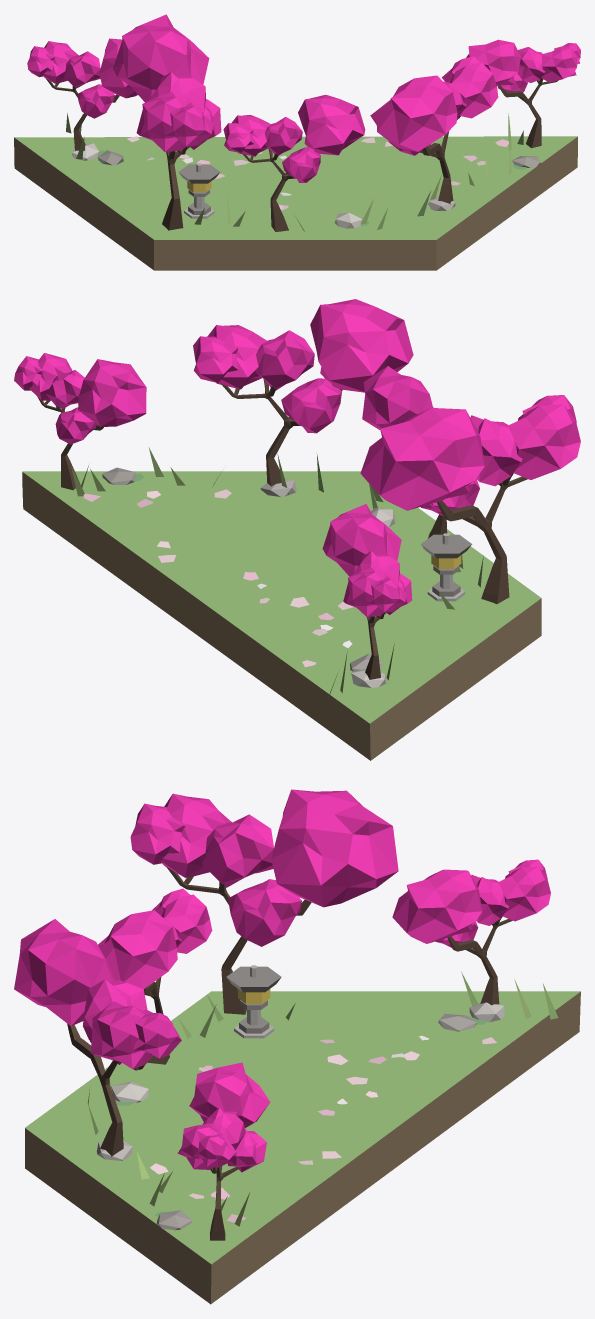
File: sakura tree forest split tile.glb
3 renders of one model, top to bottom at view 1: azimuth 30°, elevation 25°; view 2: azimuth 150°, elevation 25°; view 3: azimuth 270°, elevation 25°, orthographic. The views are drawn at different scales.
Parts seen in each view (by area): view 1: HexBase, Icosphere.010, Icosphere.020, Icosphere.031, Icosphere.022, Icosphere.012, Icosphere.015, Icosphere.011, Icosphere.013, Icosphere.001, Icosphere.017, Icosphere.034 (+16 smaller); view 2: HexBase, Icosphere.010, Icosphere.020, Icosphere.012, Icosphere.015, Icosphere.001, Icosphere.031, Cube.002, Icosphere.023, Icosphere.024, Icosphere.013, Icosphere.022 (+13 smaller); view 3: HexBase, Icosphere.010, Icosphere.020, Icosphere.001, Icosphere.031, Icosphere.013, Icosphere.014, Icosphere.015, Icosphere.012, Icosphere.022, Icosphere.011, Icosphere.003 (+13 smaller).
Part boxes in pixels (<box>): HexBase: <box>14,136,577,270</box>; Icosphere.010: <box>113,14,209,102</box>; Icosphere.020: <box>370,75,457,151</box>; Icosphere.031: <box>298,94,365,155</box>; Icosphere.022: <box>448,62,498,118</box>; Icosphere.012: <box>136,92,187,151</box>; Icosphere.015: <box>466,39,520,85</box>; Icosphere.011: <box>163,103,213,146</box>; Icosphere.013: <box>148,72,205,112</box>; Icosphere.001: <box>99,38,137,98</box>; Icosphere.017: <box>541,47,577,82</box>; Icosphere.034: <box>264,117,302,155</box>; HexBase: <box>22,471,541,760</box>; Icosphere.010: <box>360,408,484,510</box>; Icosphere.020: <box>310,299,413,392</box>; Icosphere.012: <box>506,404,580,479</box>; Icosphere.015: <box>78,359,146,426</box>; Icosphere.001: <box>322,504,401,576</box>; Icosphere.031: <box>362,366,433,429</box>; Cube.002: <box>436,473,527,603</box>; Icosphere.023: <box>255,330,314,390</box>; Icosphere.024: <box>281,378,341,433</box>; Icosphere.013: <box>470,415,522,486</box>; Icosphere.022: <box>207,325,267,389</box>; HexBase: <box>25,991,580,1304</box>; Icosphere.010: <box>271,789,398,907</box>; Icosphere.020: <box>14,919,115,1026</box>; Icosphere.001: <box>392,869,482,943</box>; Icosphere.031: <box>98,910,177,989</box>; Icosphere.013: <box>201,814,273,887</box>; Icosphere.014: <box>228,879,301,946</box>; Icosphere.015: <box>189,1062,270,1127</box>; Icosphere.012: <box>161,793,231,877</box>; Icosphere.022: <box>90,1001,153,1069</box>; Icosphere.011: <box>130,803,185,864</box>; Icosphere.003: <box>497,866,550,921</box>.
Size of the model in its own units: 4.57 by 1.95 by 3.8.
